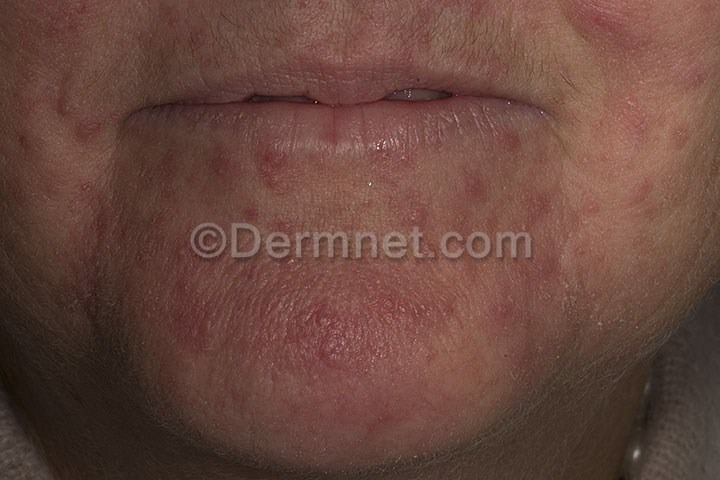Acne: (50, 118, 543, 395)
